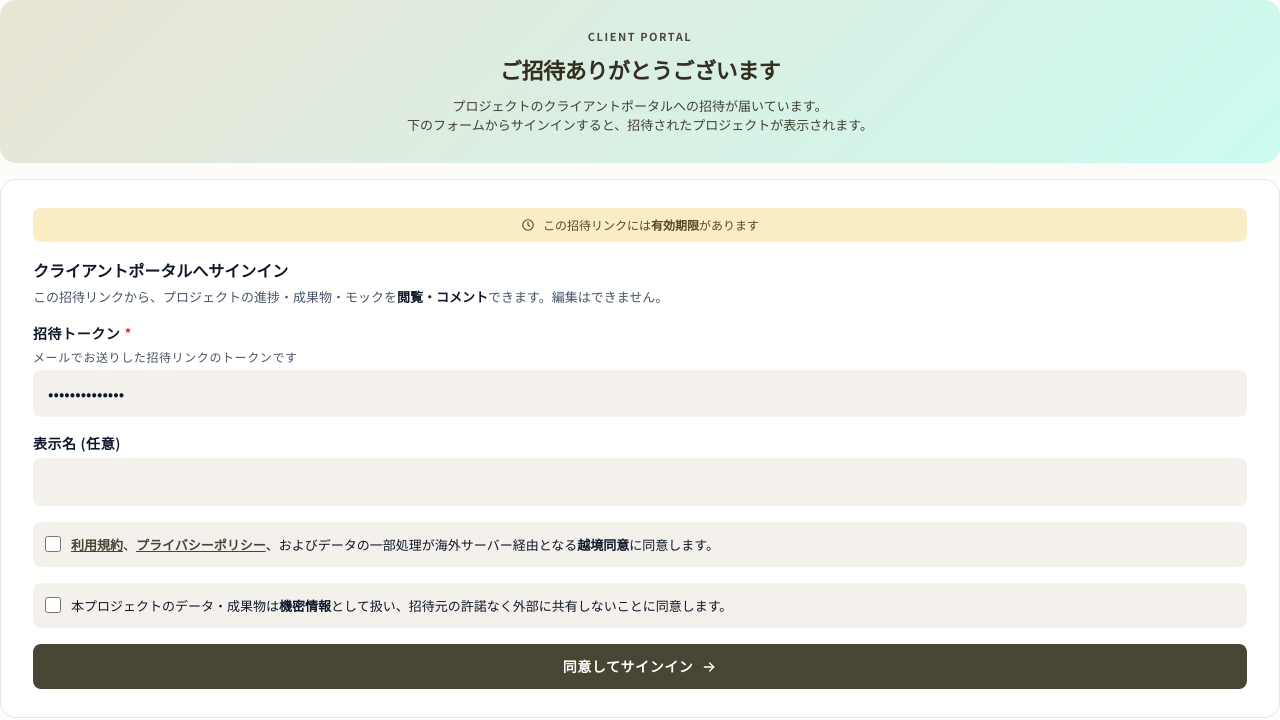
Test: S-L02 ClientSigninContainer (T-UC-21) › shows an expired message on 410
Click the 1st checkbox at (53, 544), box [45,536,61,552]
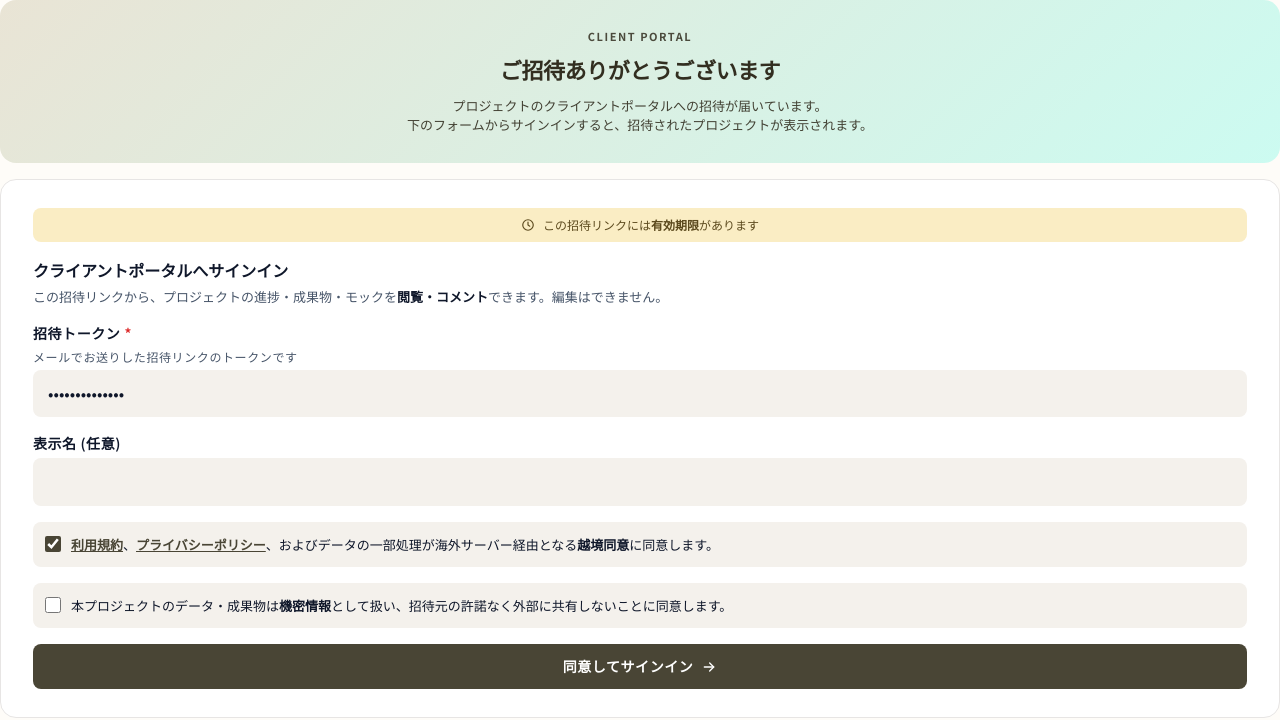
Click the 2nd checkbox at (53, 605), box [45,597,61,613]
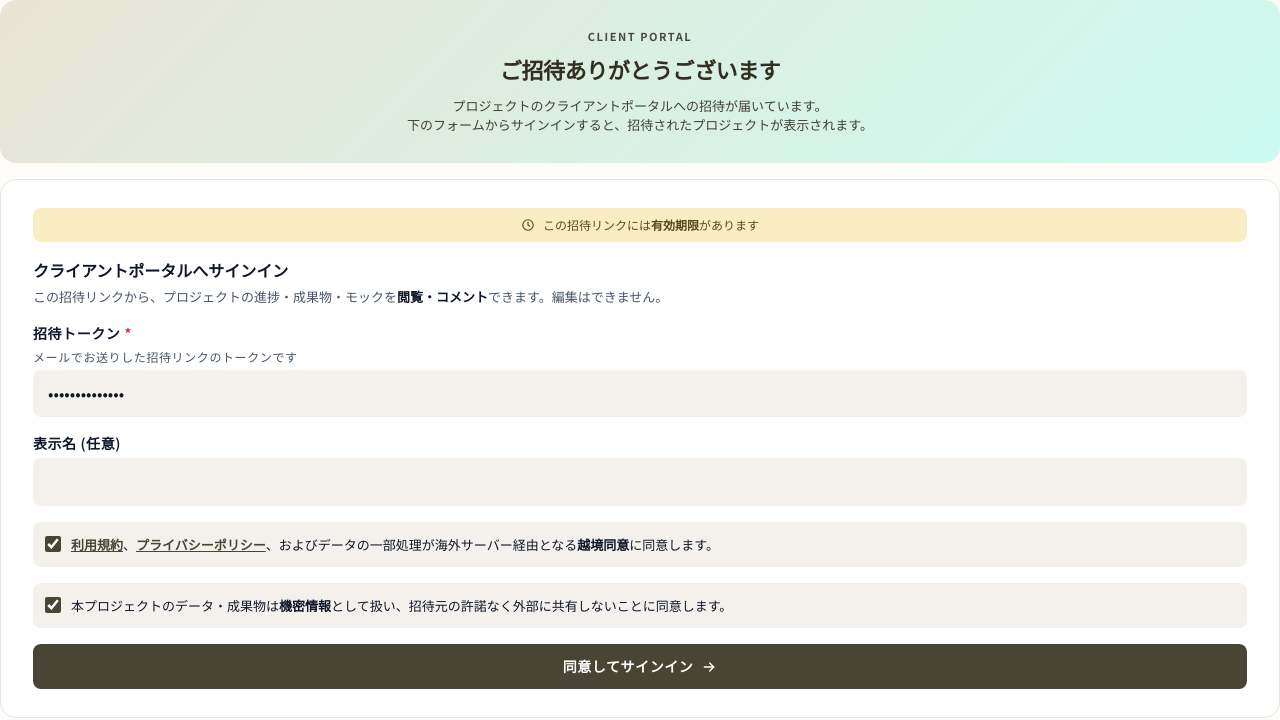
Click the button "同意してサインイン" at (640, 667), box [33,644,1247,689]
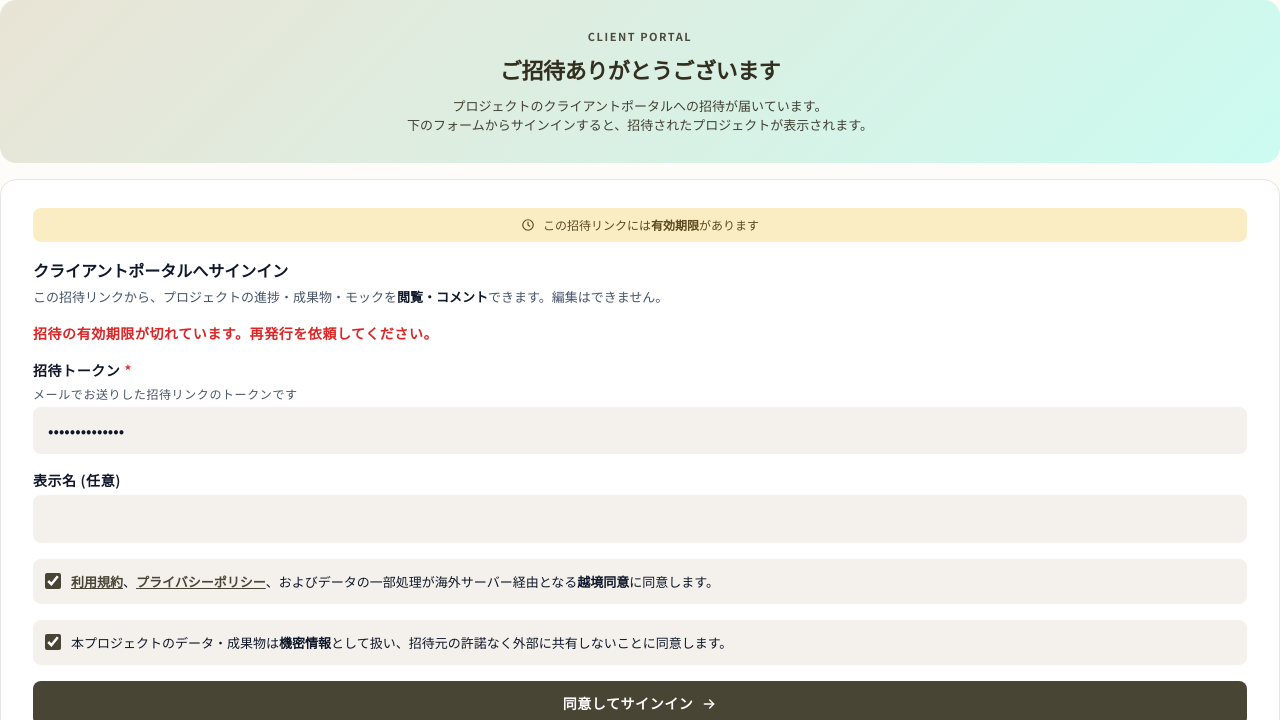
Now the message shows "有効期限が切れています", box [33,323,438,343]
